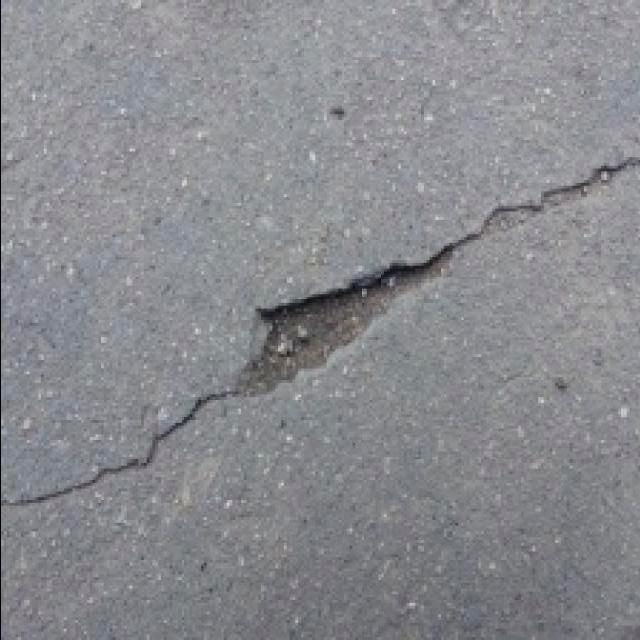SurfaceCrack: (2, 128, 640, 526)
